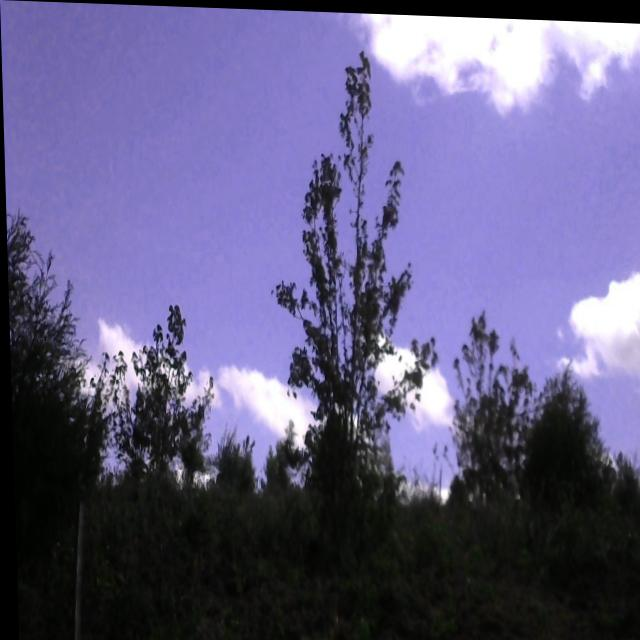cedrus: (5, 204, 123, 624)
other: (267, 33, 466, 576), (101, 301, 209, 486), (453, 311, 522, 498)
